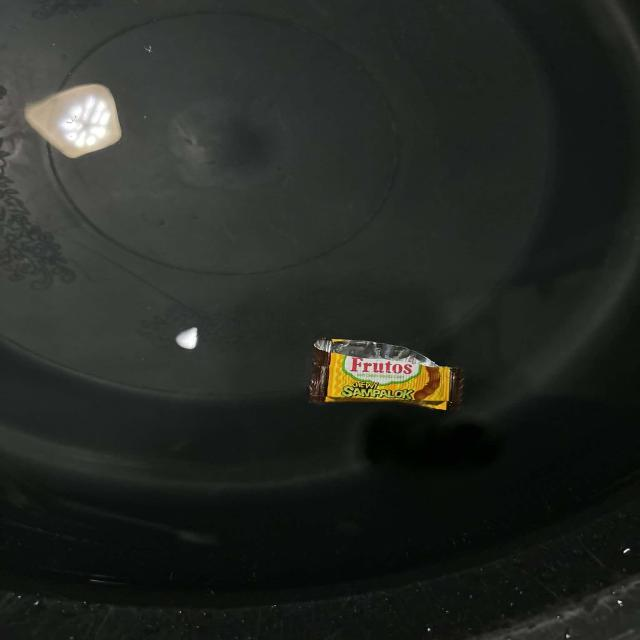Plastic Wrapper: (292, 325, 497, 443)
